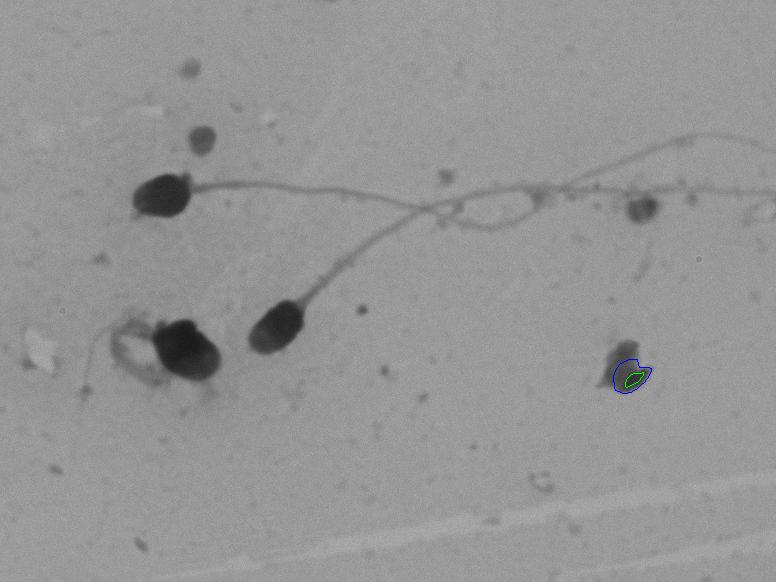Abnormal: (75, 293, 245, 464)
Normal: (219, 148, 773, 393), (110, 111, 757, 238)
